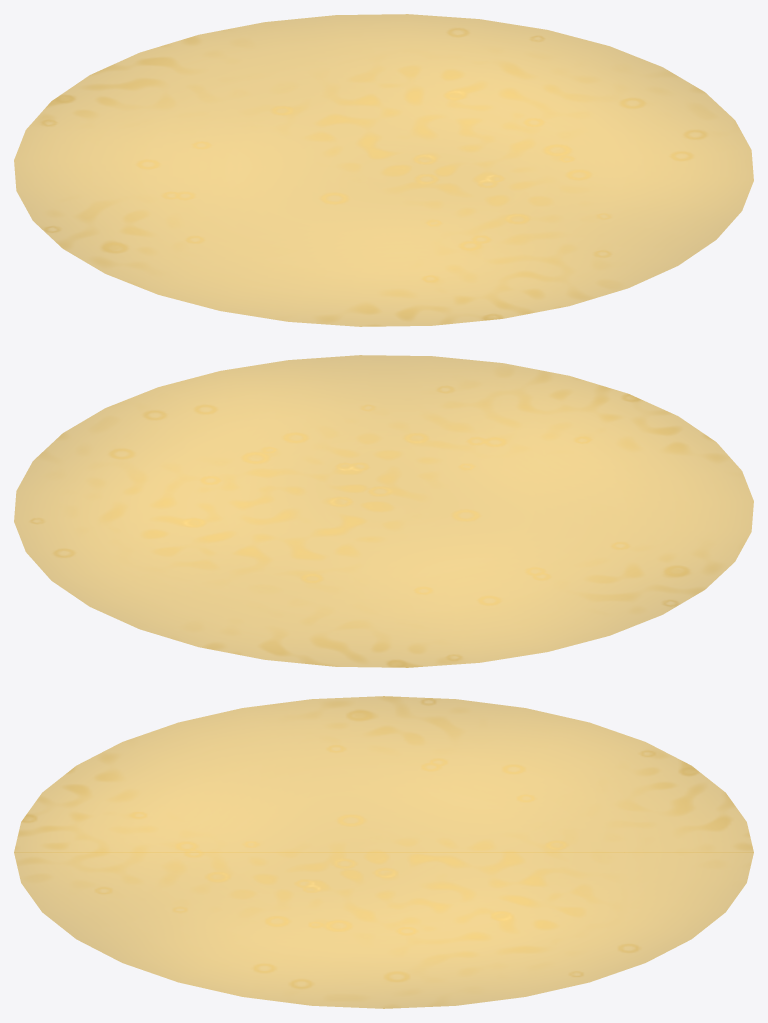
The model's file is mm8_deco_barrel_liquid_yellow.glb.
3 views of the same model, one above another, from view 1: azimuth 30°, elevation 25°; view 2: azimuth 150°, elevation 25°; view 3: azimuth 270°, elevation 25° (orthographic).
Parts seen in each view (by area): view 1: Liquid; view 2: Liquid; view 3: Liquid.
Boxes of the visible parts, box(x1,y1,x2,y2) form: Liquid: box(14, 14, 753, 326); Liquid: box(14, 355, 753, 667); Liquid: box(14, 696, 753, 1008).
Bounding box in the file's own units: 0.512 × 0 × 0.512.
Materials: 1 (1 with a texture image).
